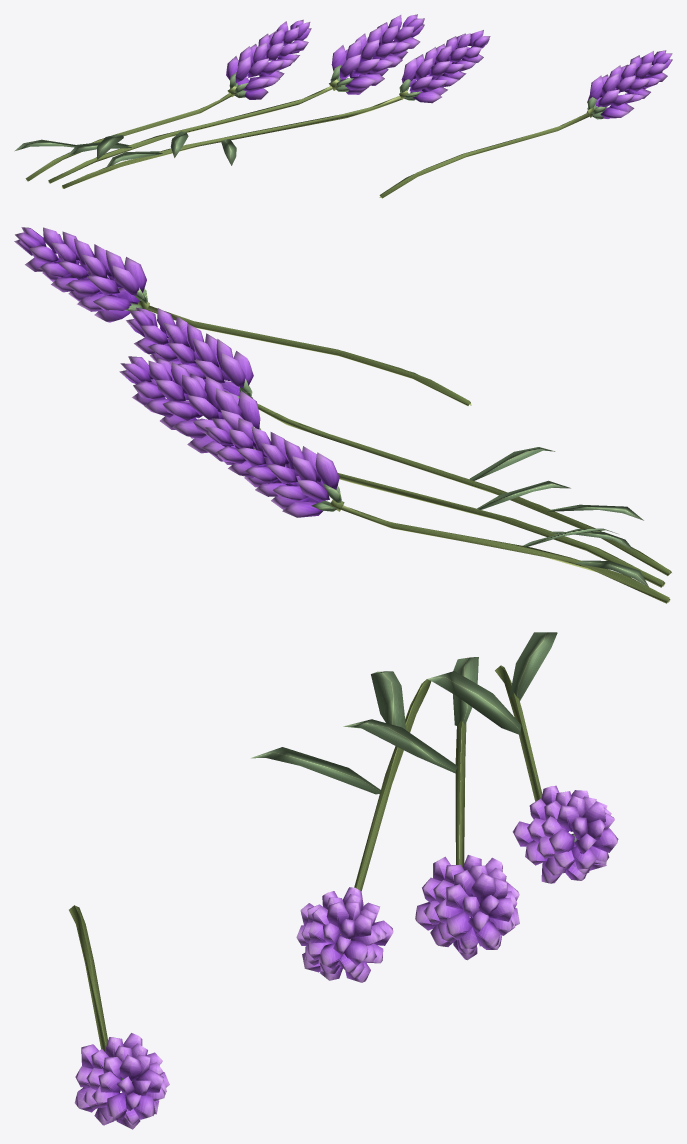
Rendered from NP_Lavender_Harvest_LOD1.fbx.
3 views of the same model, one above another, from view 1: azimuth 30°, elevation 25°; view 2: azimuth 150°, elevation 25°; view 3: azimuth 270°, elevation 25° (orthographic). The views are drawn at different scales.
Visible parts, largest first — view 1: NP_Lavender_Harvest; view 2: NP_Lavender_Harvest; view 3: NP_Lavender_Harvest.
Boxes of the visible parts, box(x1,y1,x2,y2) form: NP_Lavender_Harvest: box(14, 14, 672, 198); NP_Lavender_Harvest: box(14, 227, 671, 603); NP_Lavender_Harvest: box(69, 632, 618, 1129).
Size of the model in its own units: 128 by 17.83 by 54.83.
